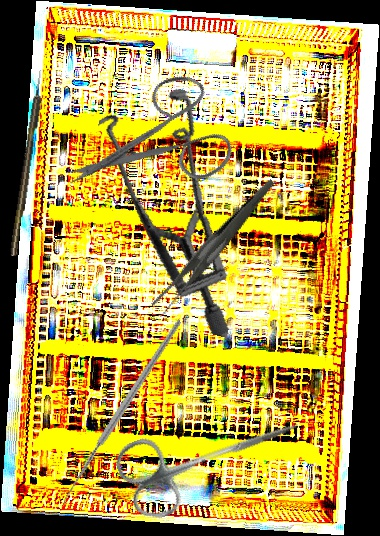Dressing Forceps: (127, 178, 303, 318)
Hook Surgical: (12, 319, 235, 514), (8, 69, 47, 257)
Iris Scissors: (60, 46, 256, 247), (110, 384, 312, 527)
Speculum: (55, 72, 283, 338)
